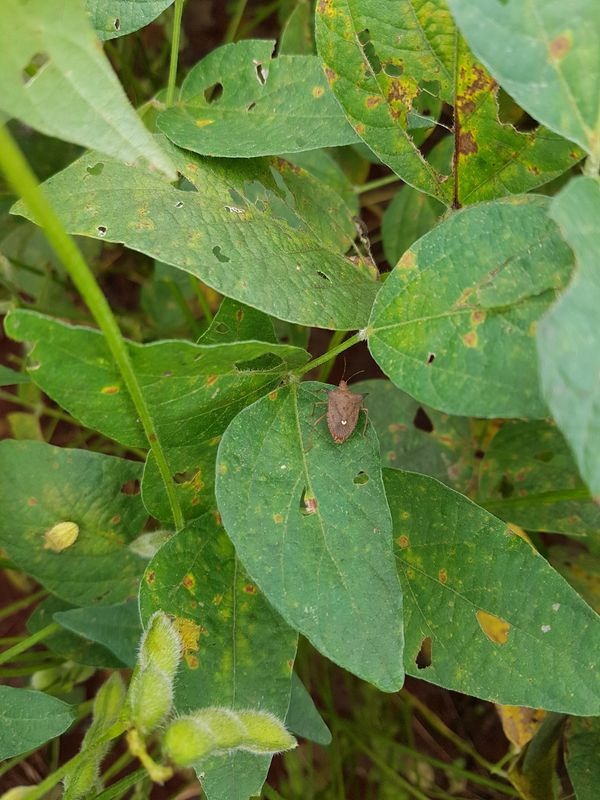Euschistus_heros_adulto: (306, 372, 376, 455)
Euschistus_heros_ninfa: (36, 514, 84, 559)
